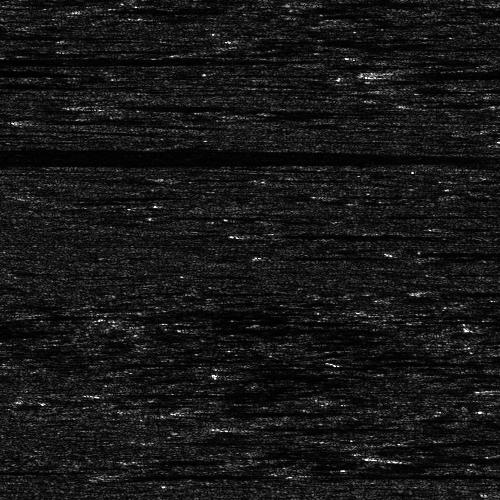rock: (41, 99, 156, 110), (176, 421, 281, 430), (349, 67, 432, 78), (213, 228, 286, 239), (137, 427, 168, 452), (170, 405, 233, 416), (391, 245, 444, 256), (224, 252, 297, 259), (267, 471, 330, 478), (442, 405, 500, 412), (402, 288, 455, 295), (348, 455, 411, 460), (419, 253, 460, 258), (94, 473, 135, 478), (462, 387, 500, 392)
shadow: (0, 146, 300, 165), (153, 427, 259, 452), (99, 99, 309, 110), (0, 55, 262, 62), (250, 228, 416, 239), (202, 405, 364, 416), (229, 421, 393, 430), (299, 471, 500, 478), (391, 67, 500, 78), (418, 245, 500, 256), (261, 252, 372, 259), (380, 455, 500, 460), (0, 67, 49, 78), (115, 473, 219, 478), (429, 288, 500, 295), (0, 394, 45, 401), (440, 253, 500, 258), (0, 33, 100, 36), (489, 405, 500, 412)
